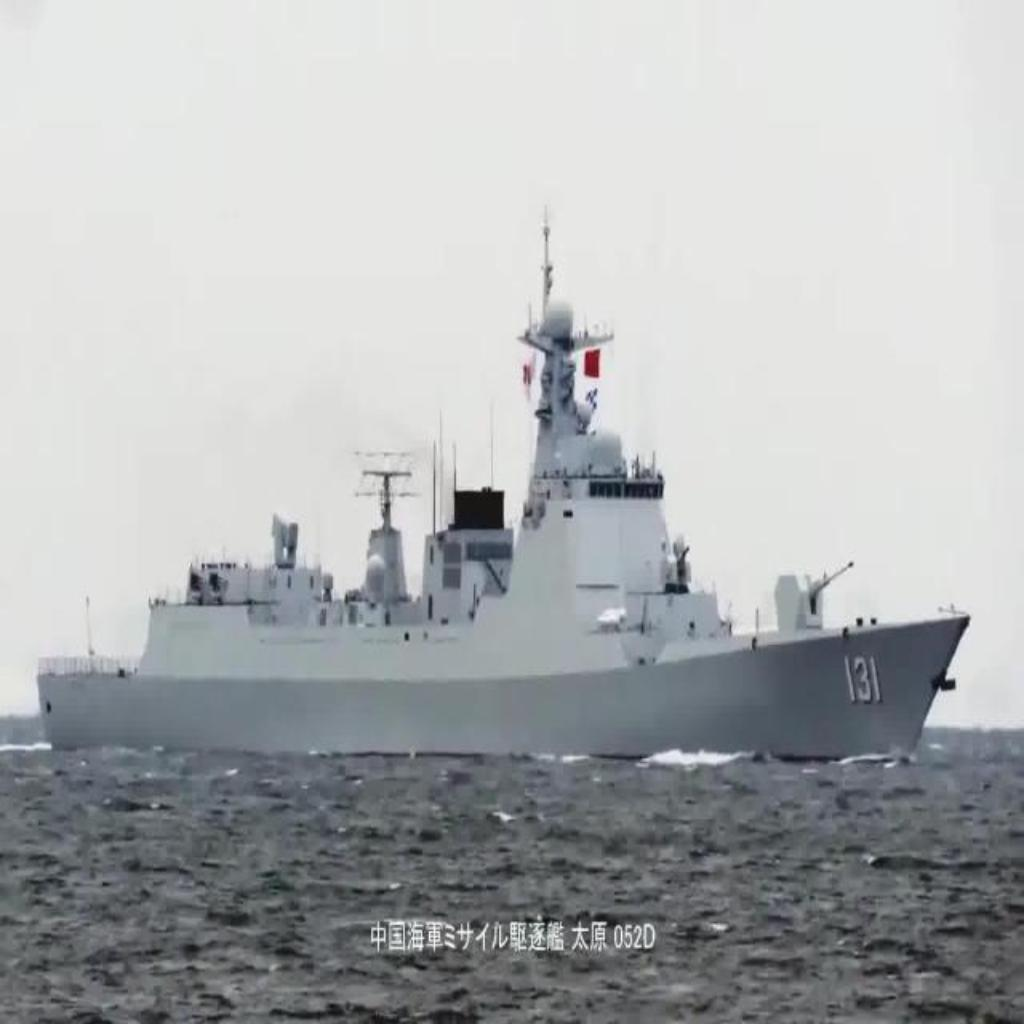Warship: (32, 202, 982, 774)
